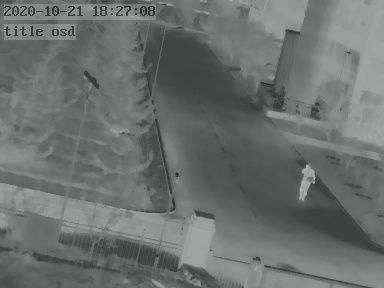person: (299, 162, 314, 200)
